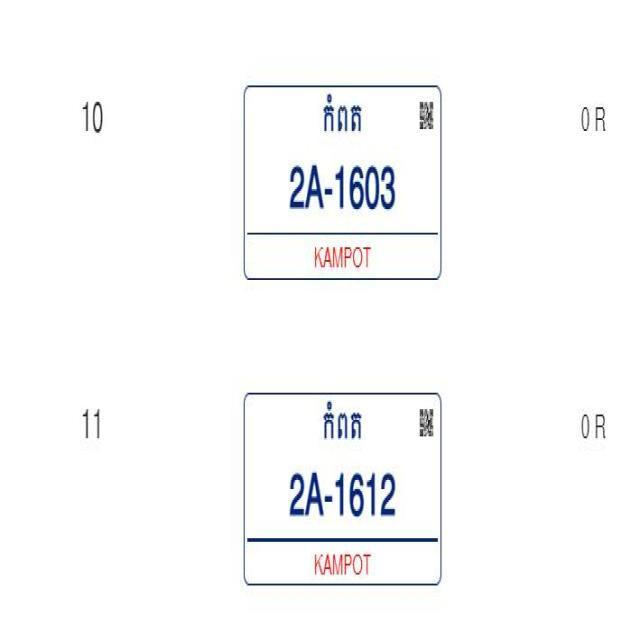Kampot: (306, 89, 374, 147), (315, 395, 370, 450)
